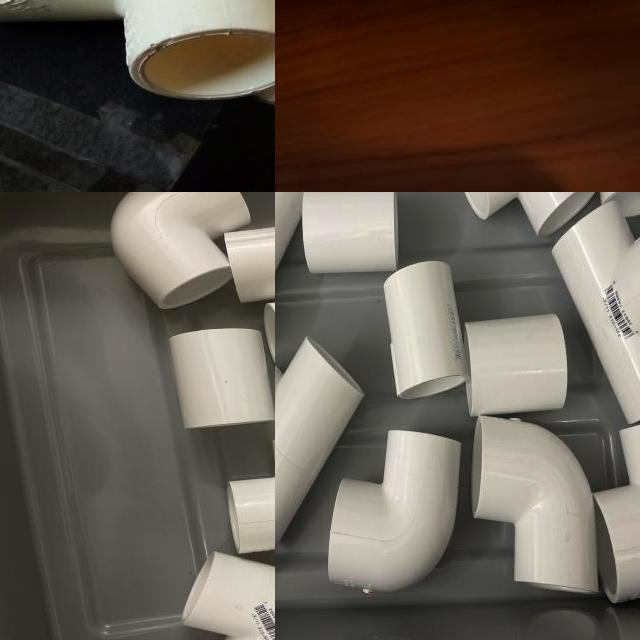L Joint: (472, 416, 615, 599), (328, 431, 465, 595), (110, 192, 251, 308), (594, 424, 640, 607), (181, 552, 275, 640), (462, 192, 599, 238), (226, 440, 275, 555)
T Joint: (275, 337, 365, 556), (551, 201, 640, 422)
